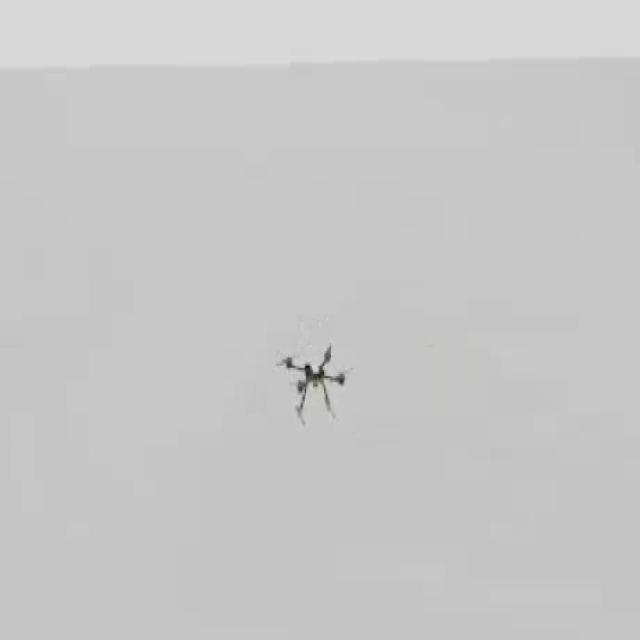drone: (277, 340, 360, 425)
